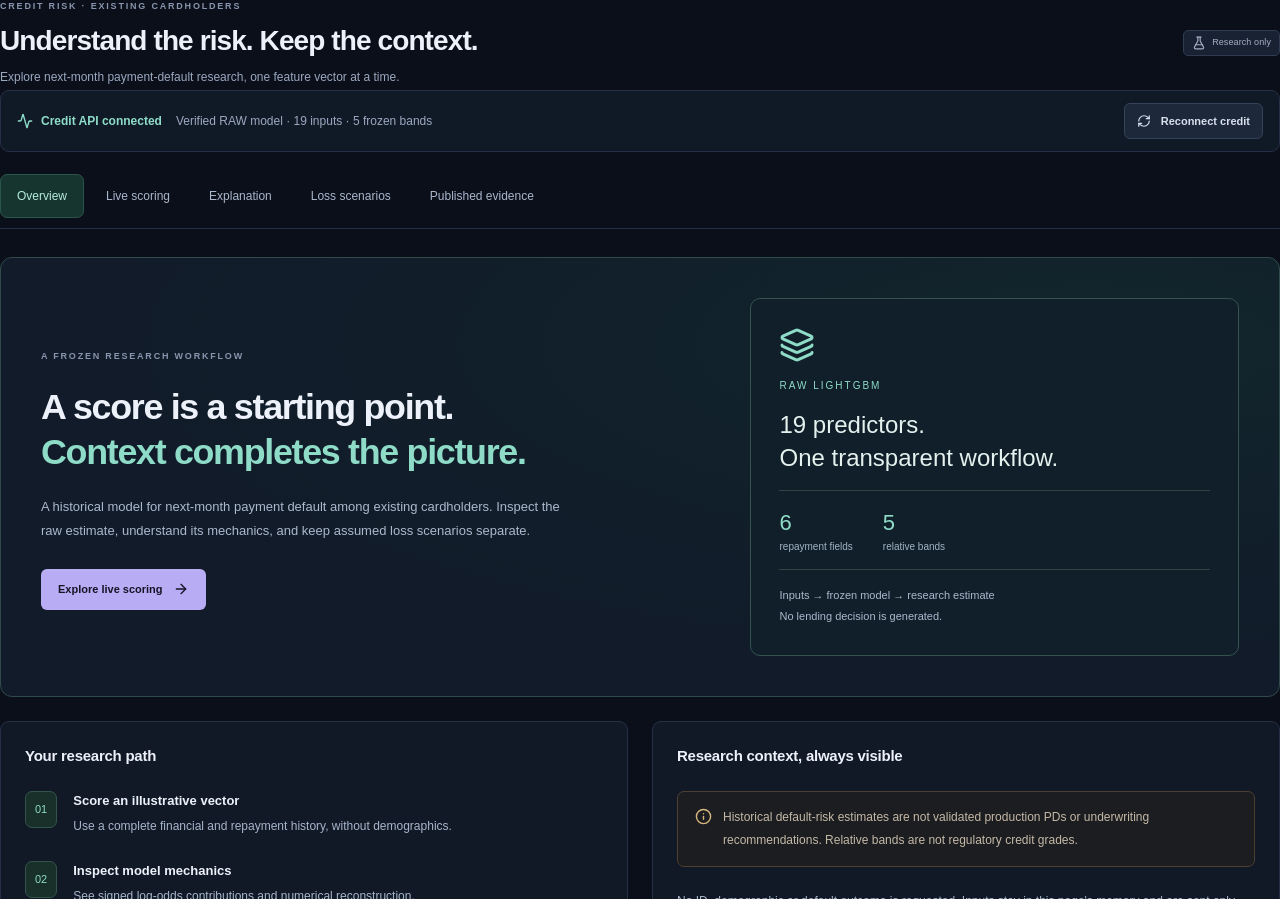
Test: credit research workspace › shows API 413 as an error, never zero risk
Expected: the text "Credit API connected" is shown, [17, 112, 162, 130]
Click the tab "Live scoring". click: (138, 196)
box: [89, 174, 187, 218]
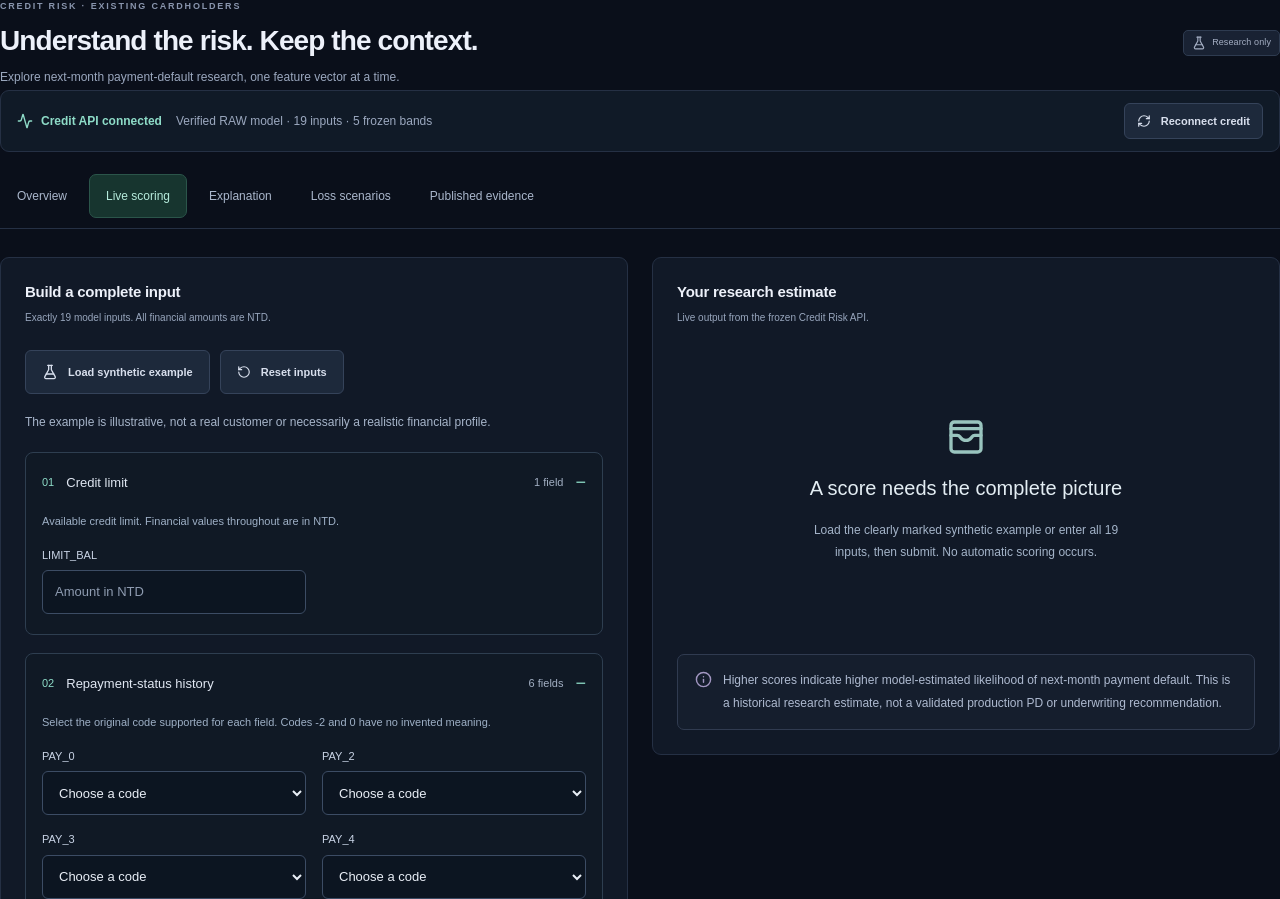
Click the button "Load synthetic example". click: (117, 372)
box: [25, 350, 210, 394]
(page scrolled)
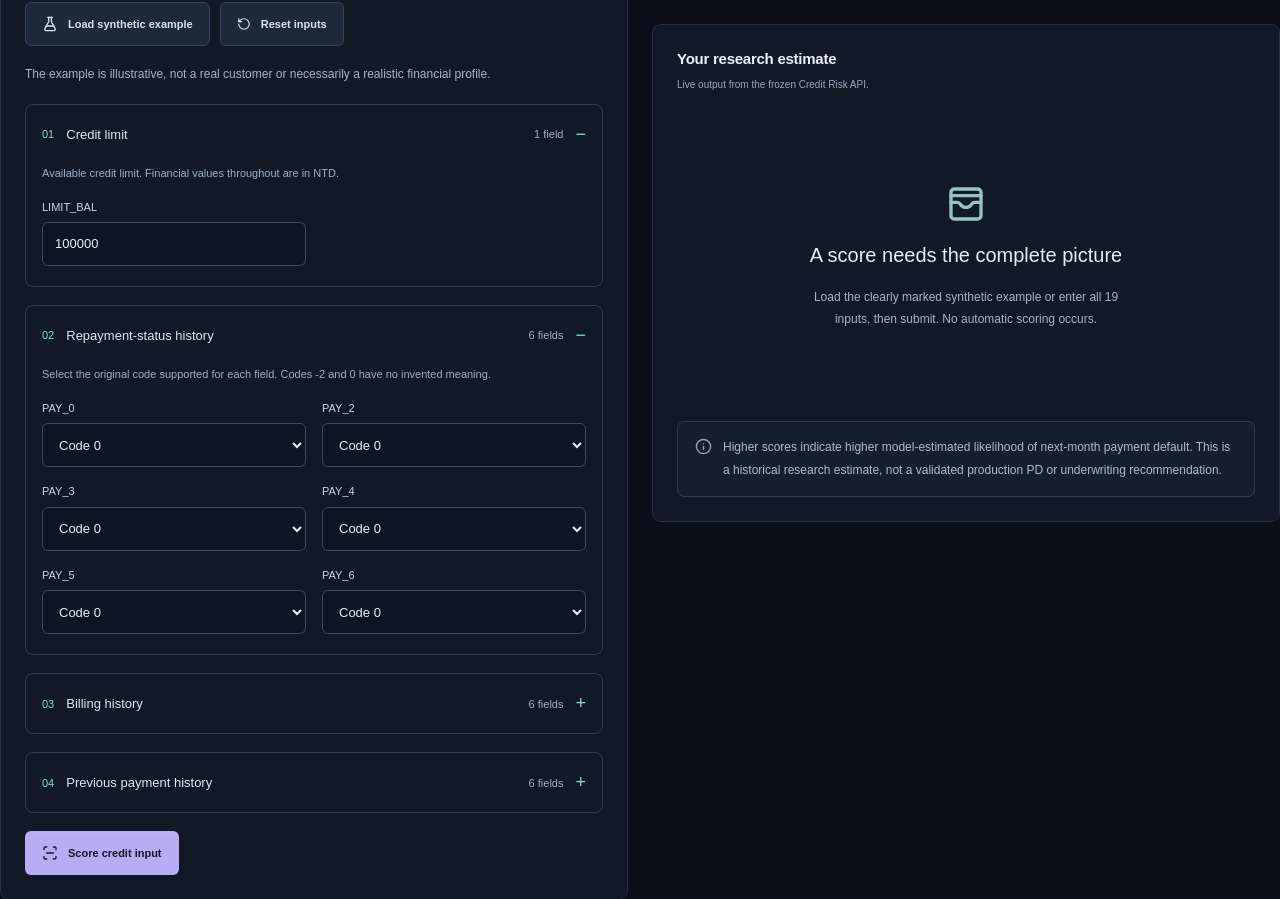
Click the button "Score credit input". click: (102, 853)
box: [25, 831, 178, 875]
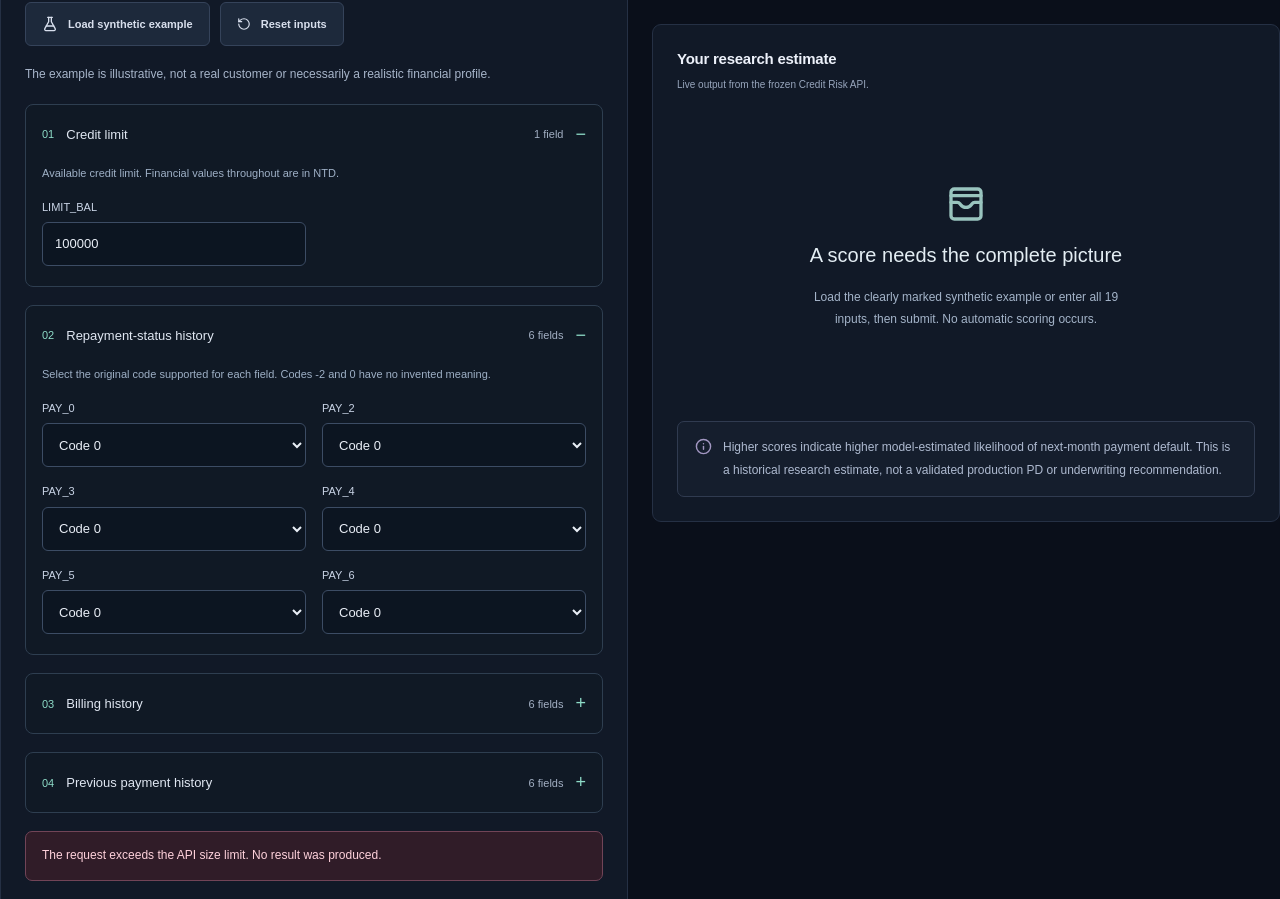
Expected: the message "The request exceeds the API size limit. No result was produced." is shown, [25, 831, 603, 881]
